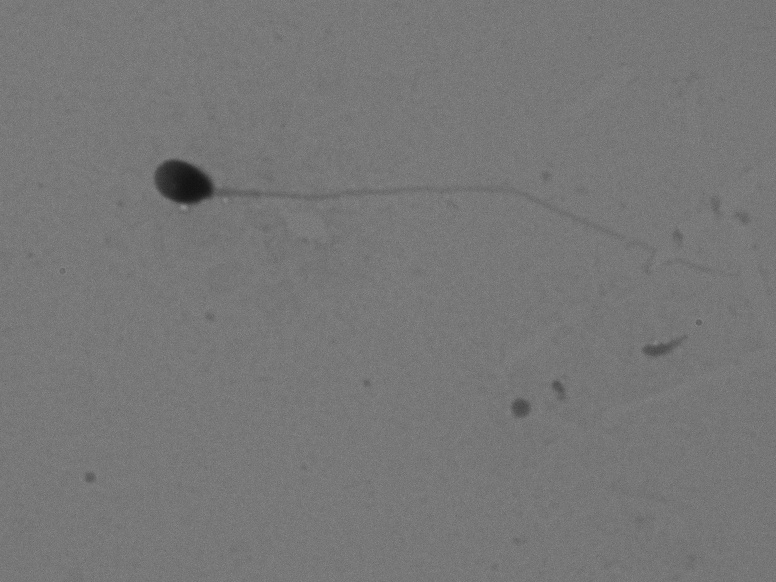Normal: (148, 151, 744, 294)
